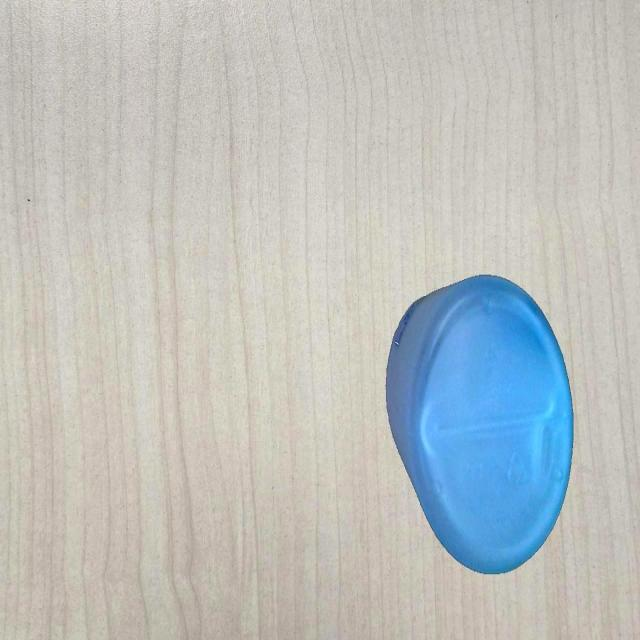bottle: (384, 268, 576, 582)
